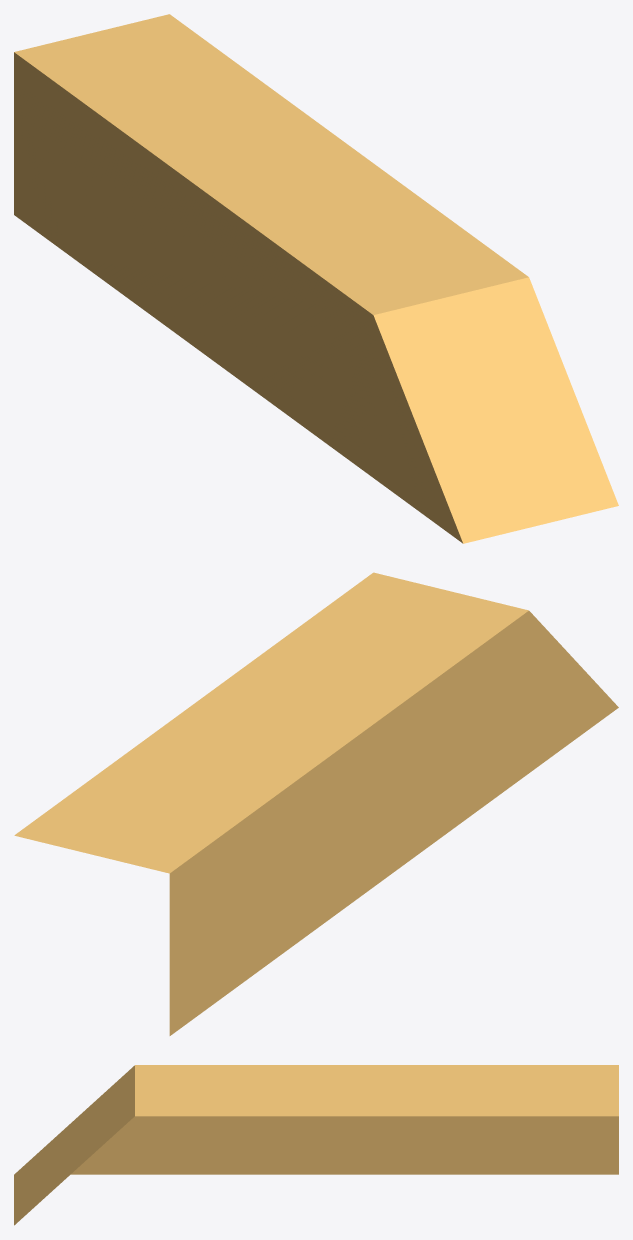
3 views of the same model, one above another, from view 1: azimuth 30°, elevation 25°; view 2: azimuth 150°, elevation 25°; view 3: azimuth 270°, elevation 25° (orthographic). The views are drawn at different scales.
Size of the model in its own units: 0.1 by 0.1 by 0.5.
